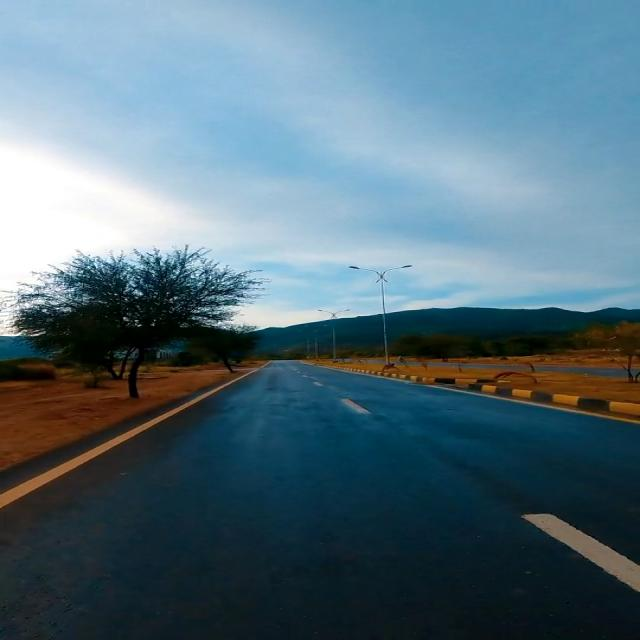lane: (0, 361, 270, 508), (521, 513, 639, 591)
road: (2, 361, 638, 639), (0, 361, 270, 508)
